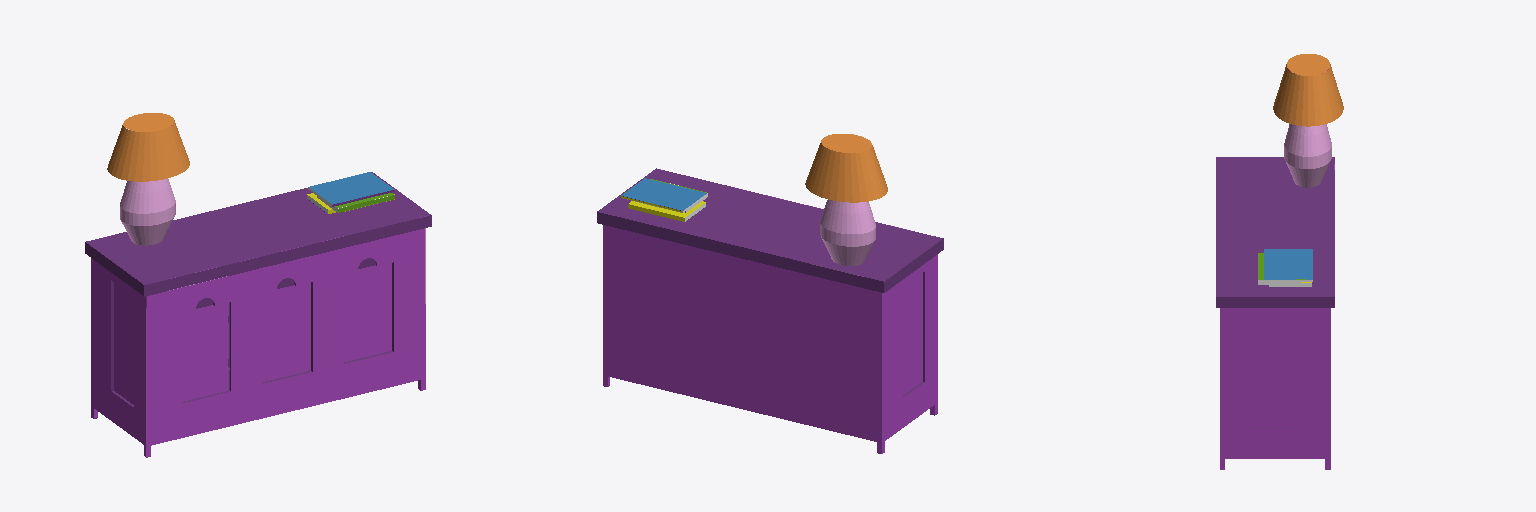
The picture shows the model from 3 angles: view 1: azimuth 30°, elevation 25°; view 2: azimuth 150°, elevation 25°; view 3: azimuth 270°, elevation 25°; orthographic projection.
Parts seen in each view (by area): view 1: Cube.029_Cube; view 2: Cube.029_Cube; view 3: Cube.029_Cube.
Part boxes in pixels (bbox=[...]): Cube.029_Cube: bbox=[85, 113, 431, 457]; Cube.029_Cube: bbox=[597, 134, 943, 453]; Cube.029_Cube: bbox=[1216, 54, 1343, 469].
Bounding box in the file's own units: 15.84 × 15.36 × 6.1.
1 materials, 1 textured.